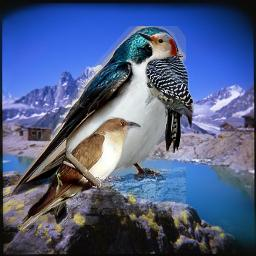Cuckoo: (22, 116, 141, 231)
Swallow: (10, 26, 186, 225)
Woodpecker: (137, 32, 194, 153)
